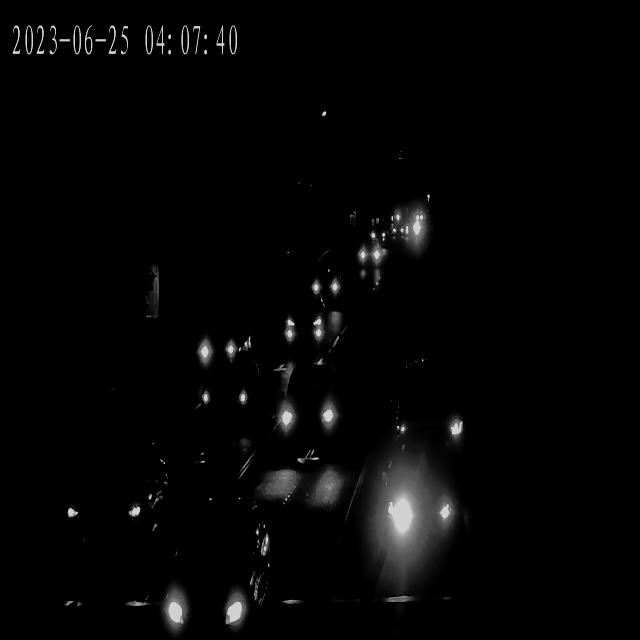Car: (52, 436, 180, 564), (151, 508, 274, 638), (381, 361, 471, 459), (373, 464, 458, 546), (274, 370, 351, 451), (192, 370, 262, 427), (193, 318, 254, 370), (273, 294, 326, 346), (310, 267, 348, 307), (352, 240, 383, 268), (395, 220, 421, 238), (396, 224, 422, 242), (389, 222, 415, 238), (367, 223, 386, 242), (369, 226, 388, 244), (388, 222, 408, 238), (389, 225, 409, 241)
